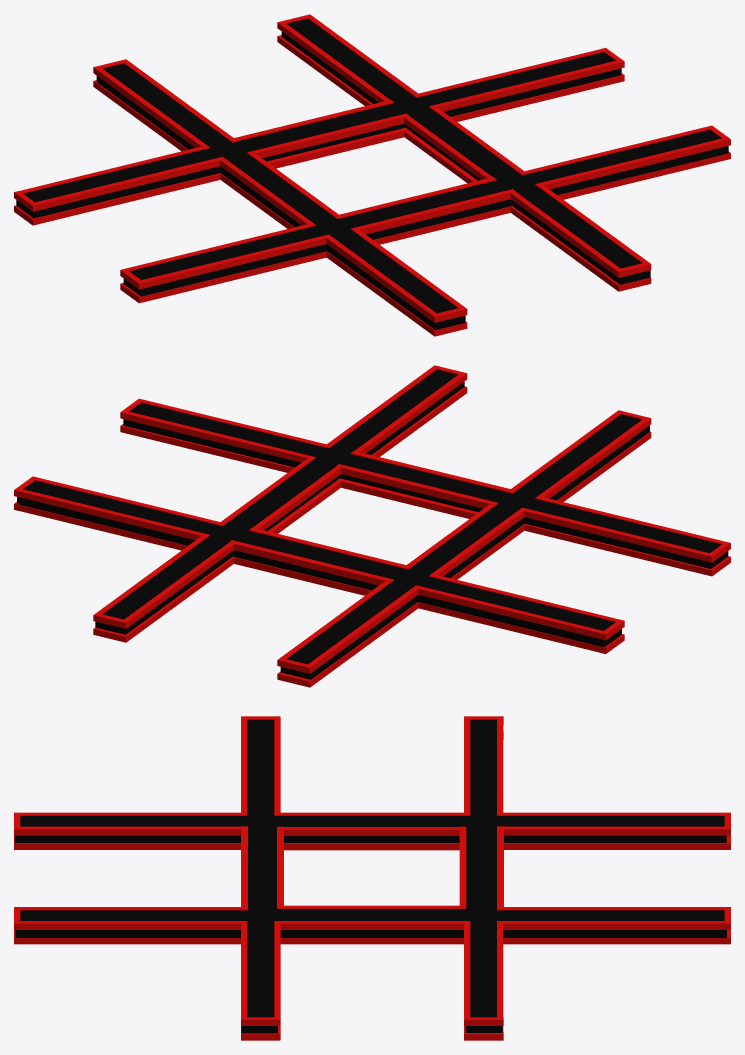
The model's file is GameBoard.fbx.
3 renders of one model, top to bottom at view 1: azimuth 30°, elevation 25°; view 2: azimuth 150°, elevation 25°; view 3: azimuth 270°, elevation 25°, orthographic. The views are drawn at different scales.
Parts seen in each view (by area): view 1: Cube.054; view 2: Cube.054; view 3: Cube.054.
Part boxes in pixels (x1,y1,x2,y2): Cube.054: (14,14,730,336); Cube.054: (14,365,730,687); Cube.054: (14,716,730,1040).
Size of the model in its own units: 882 by 28.64 by 881.
